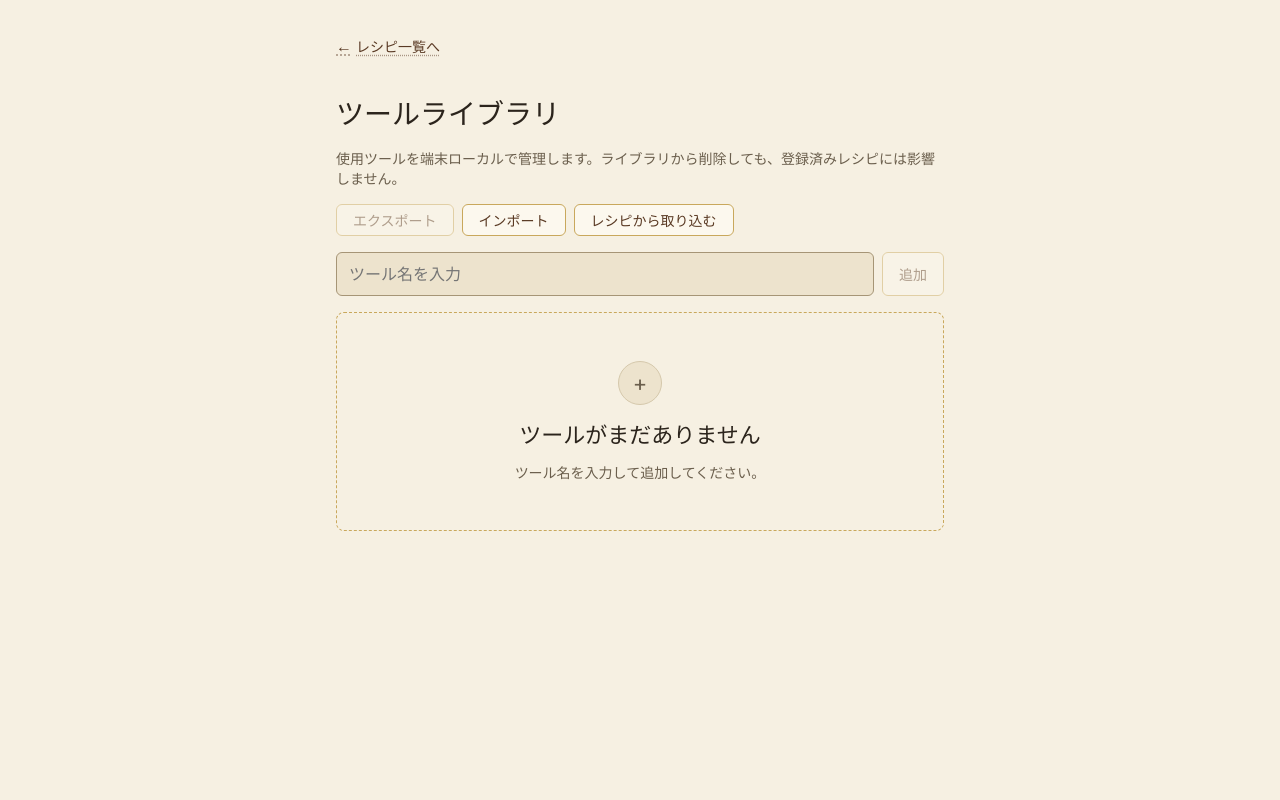
Test: ToolsPage › 削除✕→ConfirmDialogのキャンセルで一覧は変化せず、確定で行が消える
This screenshot has width=1280, height=800.
Expected: the heading "ツールがまだありません" is shown, [519, 417, 761, 450]
In the field with placeholder "ツール名を入力": (605, 274) [336, 252, 874, 296], type "スポンジ"
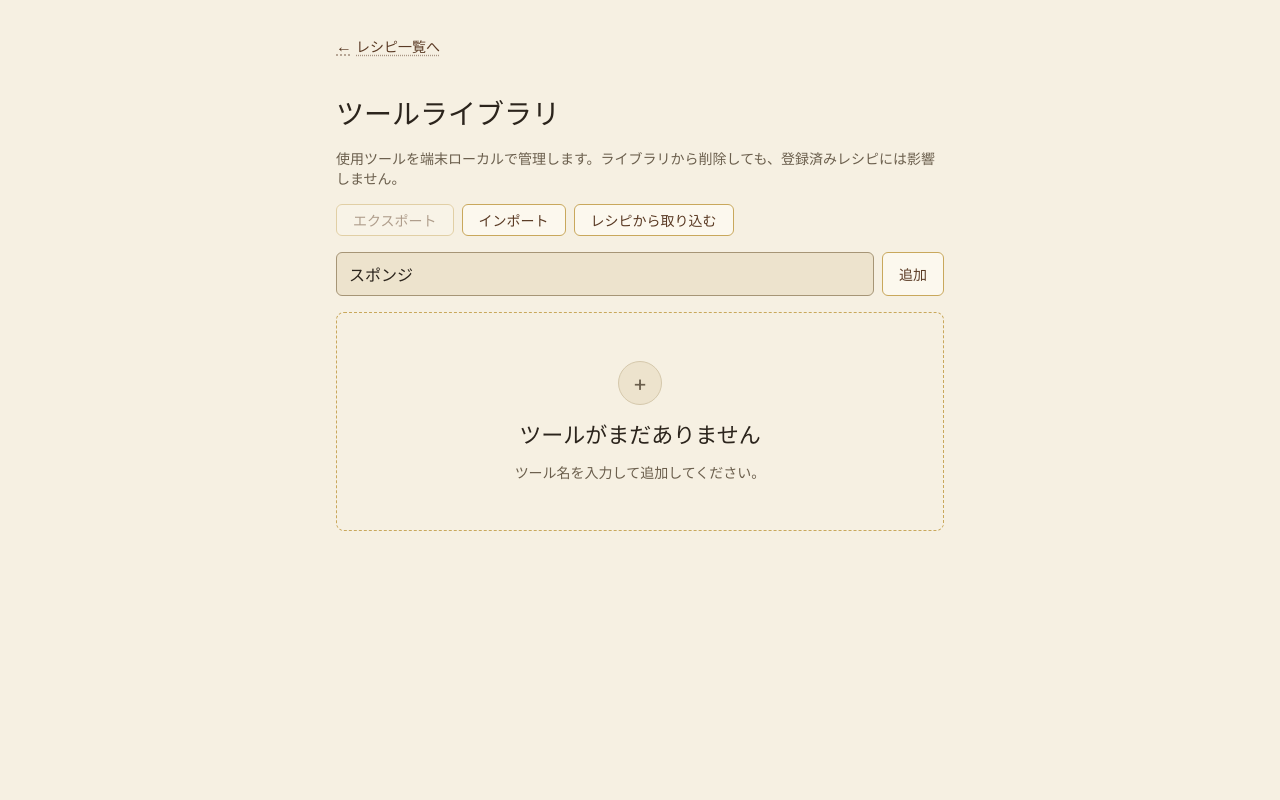
Click the button "追加": (913, 274) [882, 252, 944, 296]
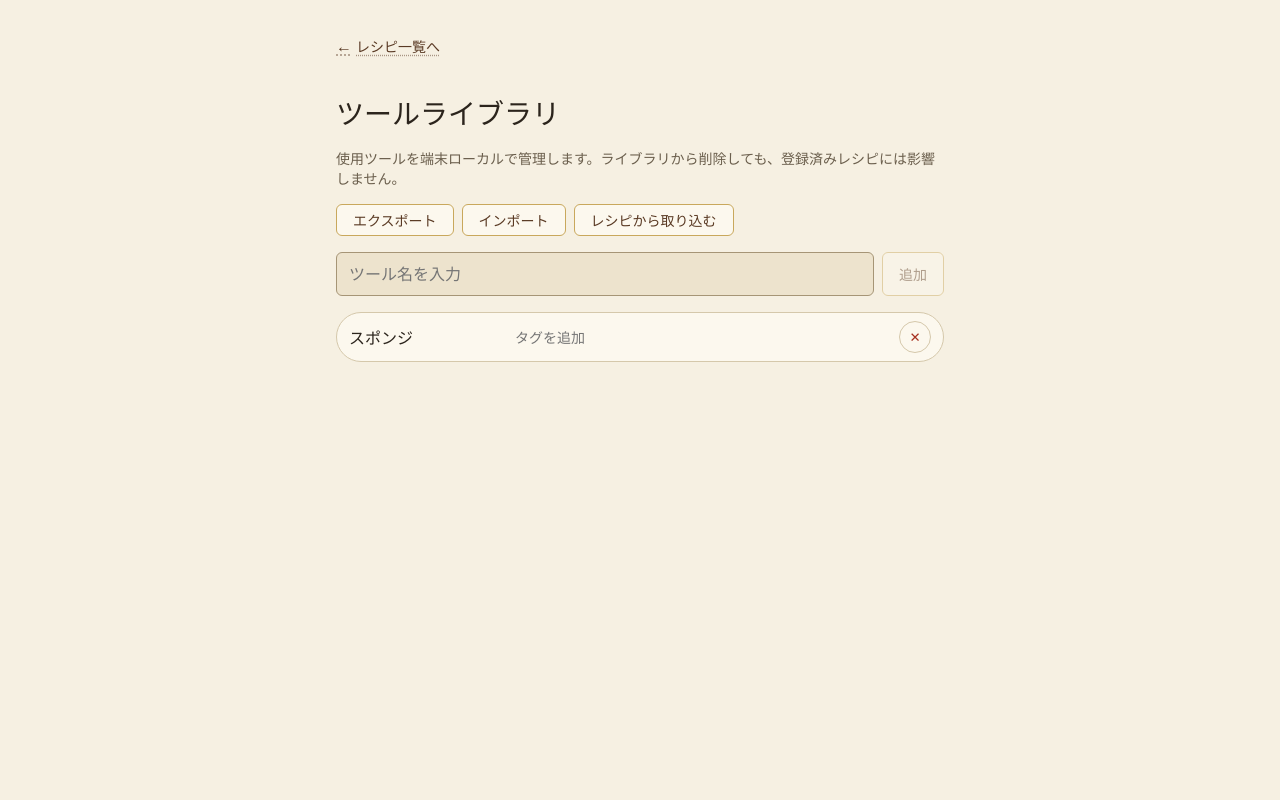
Expected: the field with placeholder "ツール名を入力" is empty, [336, 252, 874, 296]
Expected: the text "スポンジ" is shown, [349, 328, 413, 348]
Click the button named "削除 スポンジ": (915, 337) [899, 321, 931, 353]
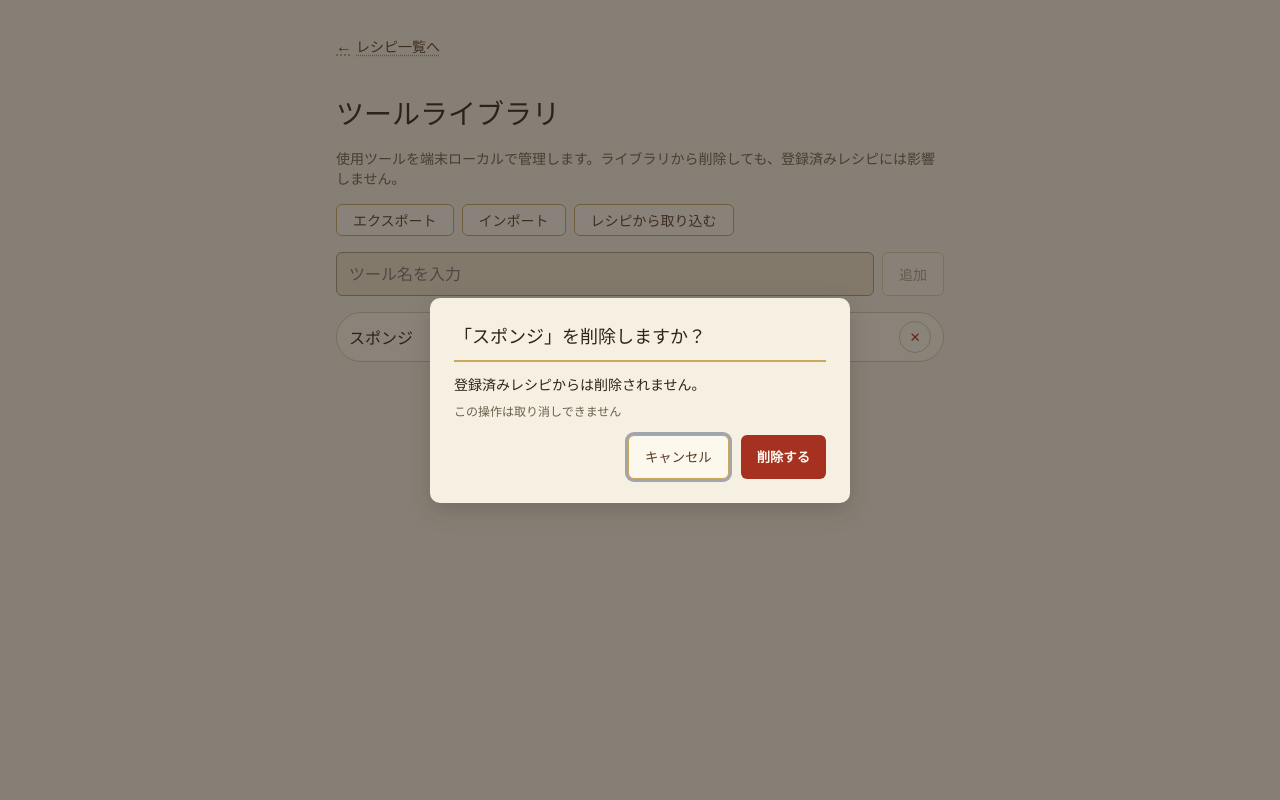
Expected: the dialog "「スポンジ」を削除しますか？" is shown, [430, 298, 850, 502]
Click the button "キャンセル": (678, 456) [628, 434, 729, 478]
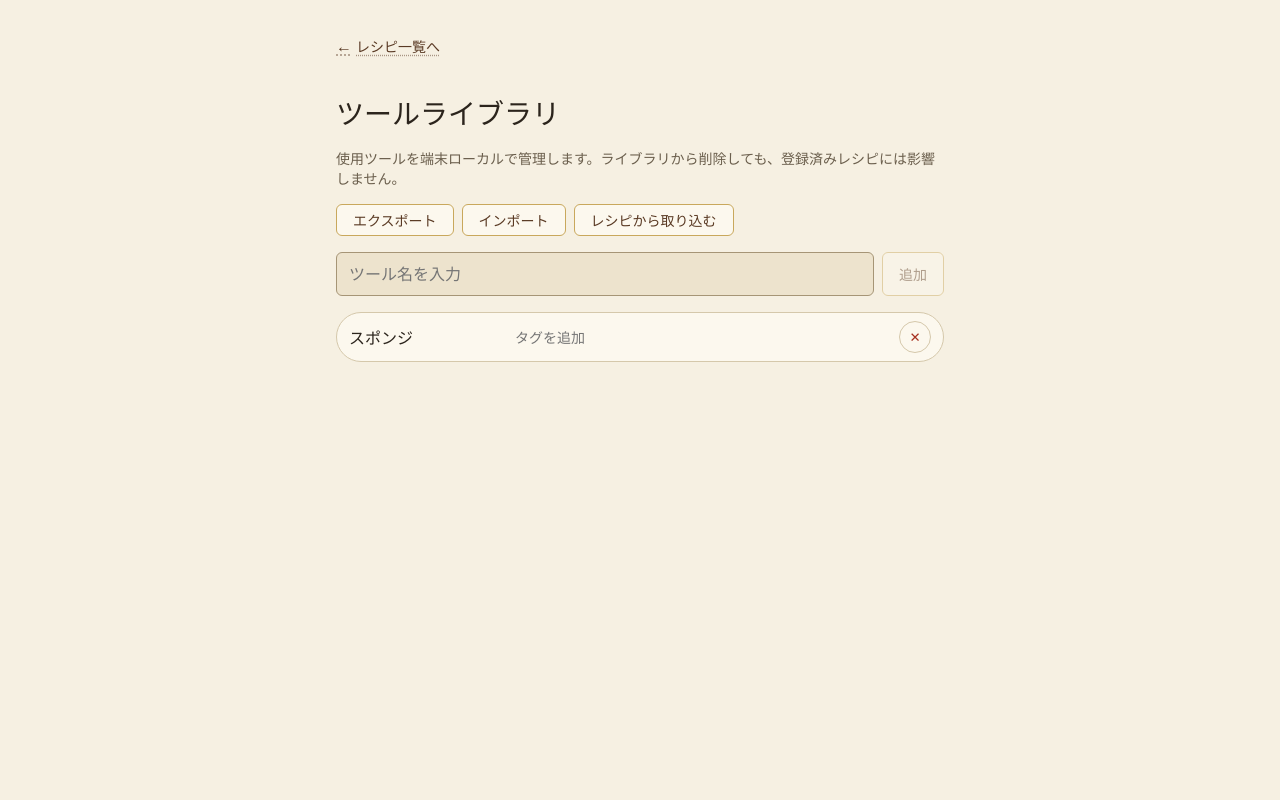
Expected: the text "スポンジ" is shown, [349, 328, 413, 348]
Click the button named "削除 スポンジ": (915, 337) [899, 321, 931, 353]
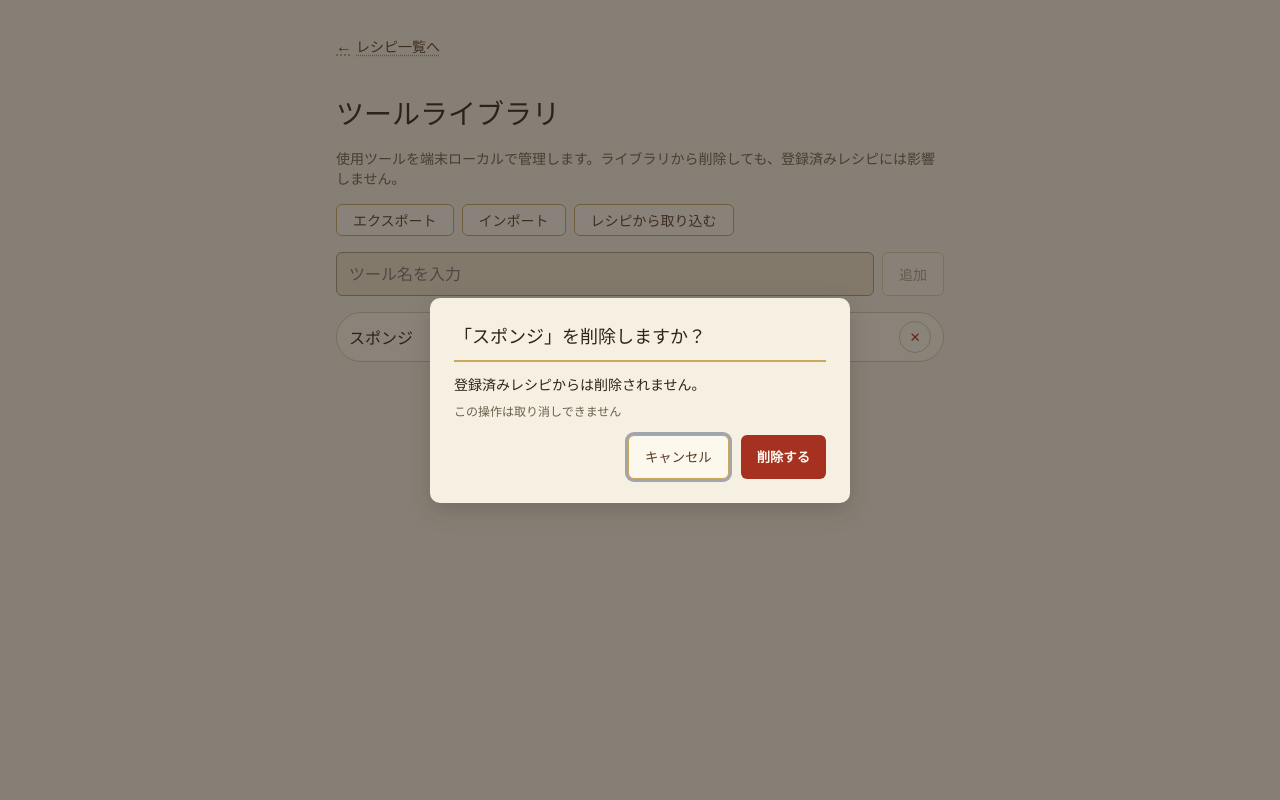
Click the button "削除する": (783, 456) [741, 434, 826, 478]
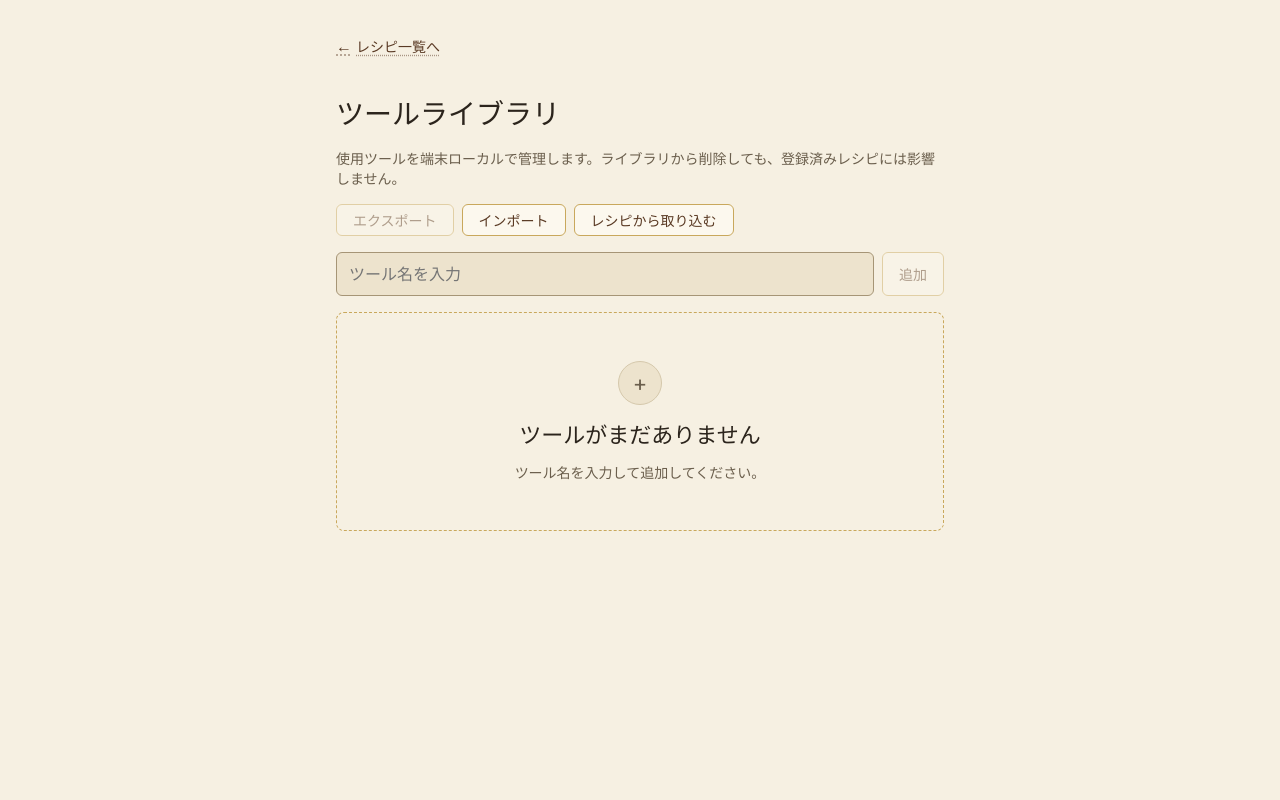
Expected: the text "スポンジ" is gone
Expected: the heading "ツールがまだありません" is shown, [519, 417, 761, 450]
